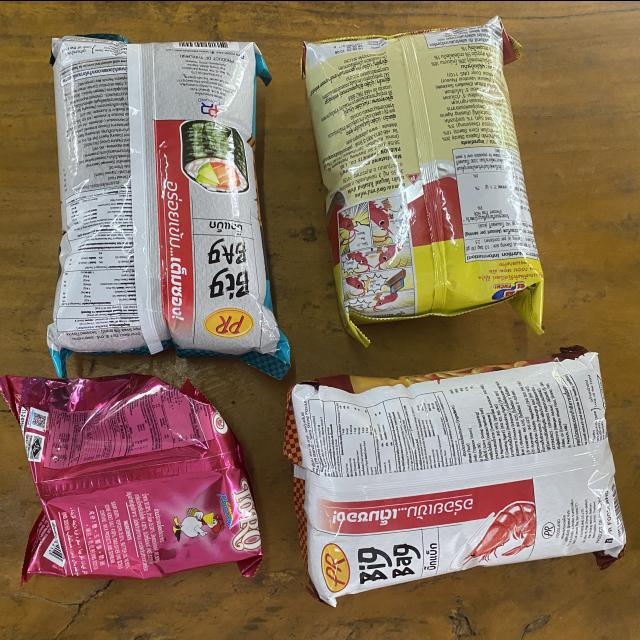plastik: (287, 352, 626, 603), (47, 35, 291, 377), (303, 16, 543, 344), (0, 374, 263, 582)
